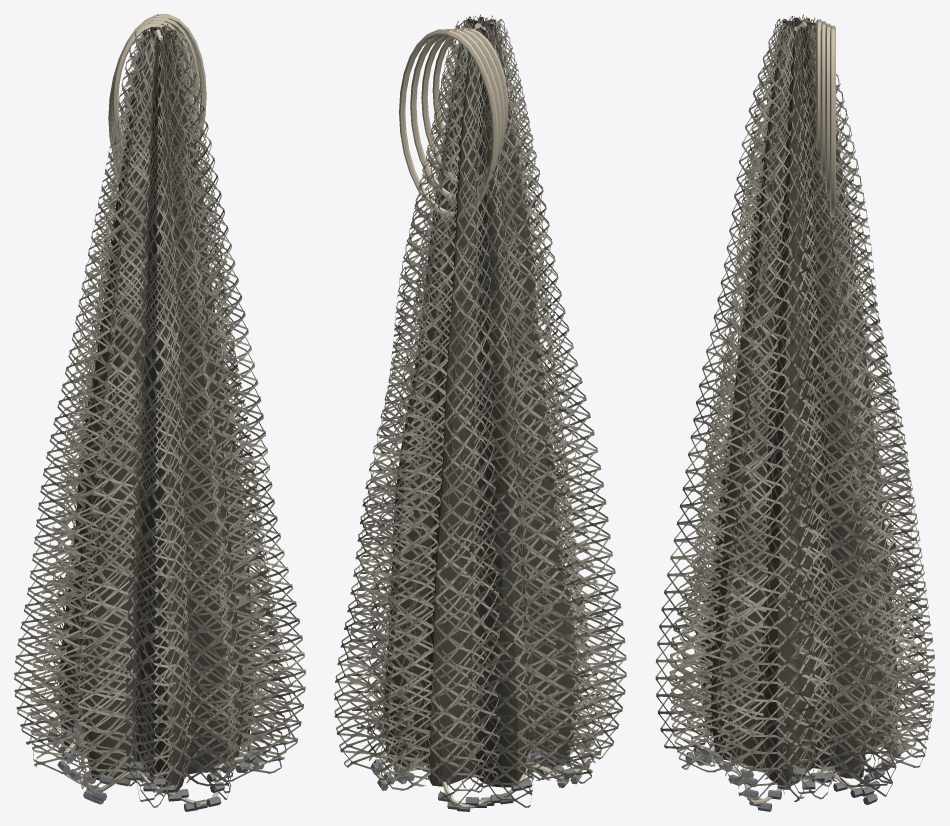
Rendered from tarrafa.glb.
3 views of the same model, side by side, from view 1: azimuth 30°, elevation 25°; view 2: azimuth 150°, elevation 25°; view 3: azimuth 270°, elevation 25° (orthographic).
Parts seen in each view (by area): view 1: tarrafa; view 2: tarrafa; view 3: tarrafa.
Part boxes in pixels (bbox=[...]): tarrafa: bbox=[14, 14, 305, 811]; tarrafa: bbox=[334, 14, 626, 811]; tarrafa: bbox=[655, 14, 935, 811].
Bounding box in the file's own units: 0.4996 × 1.45 × 0.4914.
5 materials, 2 textured.
